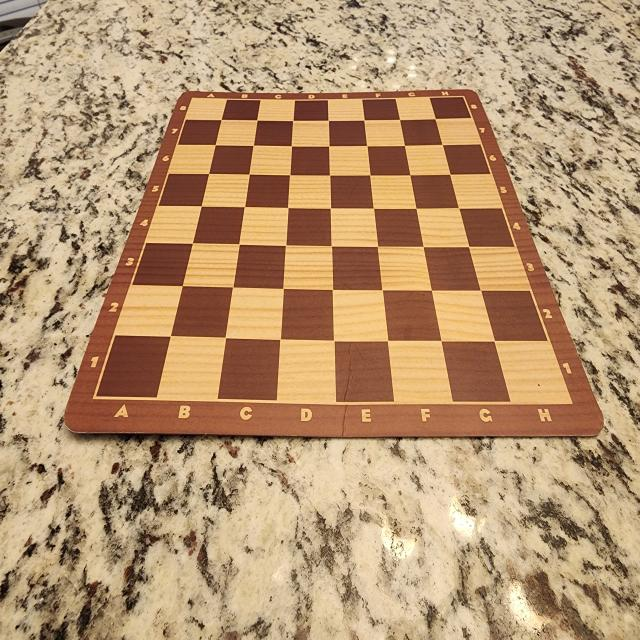Bottom-Left: (100, 336, 164, 398)
Bottom-Right: (496, 338, 572, 404)
Top-Left: (190, 97, 223, 120)
Top-Right: (430, 96, 470, 119)
